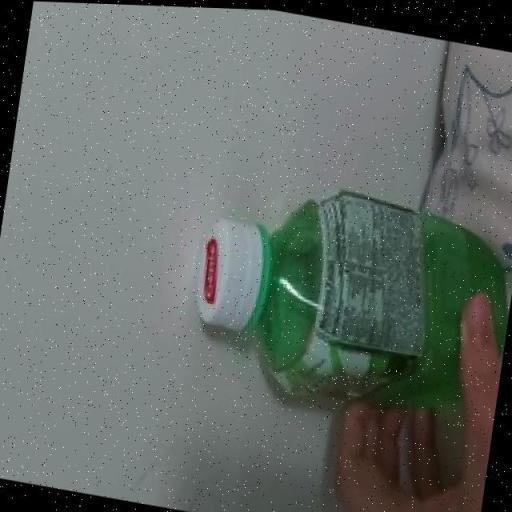plastic: (196, 188, 509, 402)
